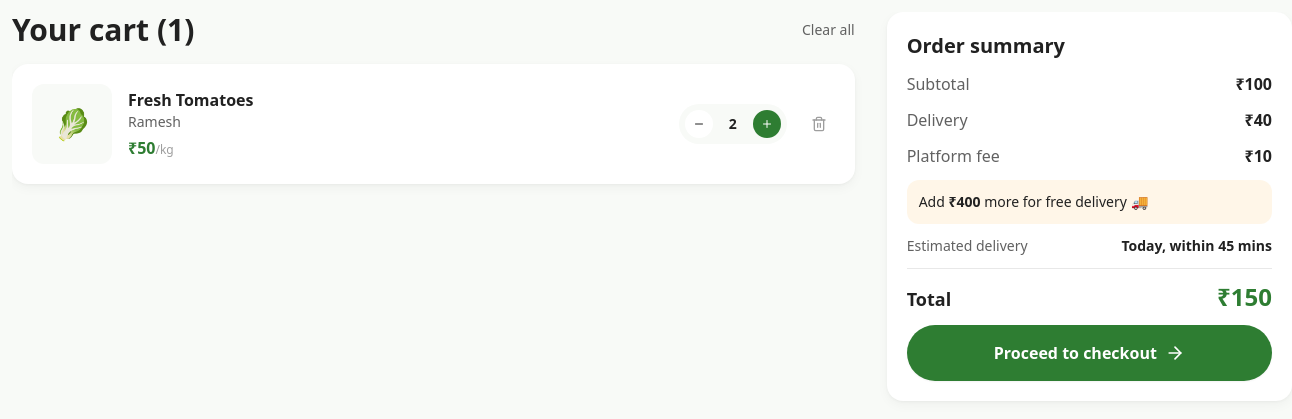
Test: CartPage — Remove & clear › removes item when trash icon clicked
Click the button with test id "remove-item" at (819, 124), box [803,108,835,140]
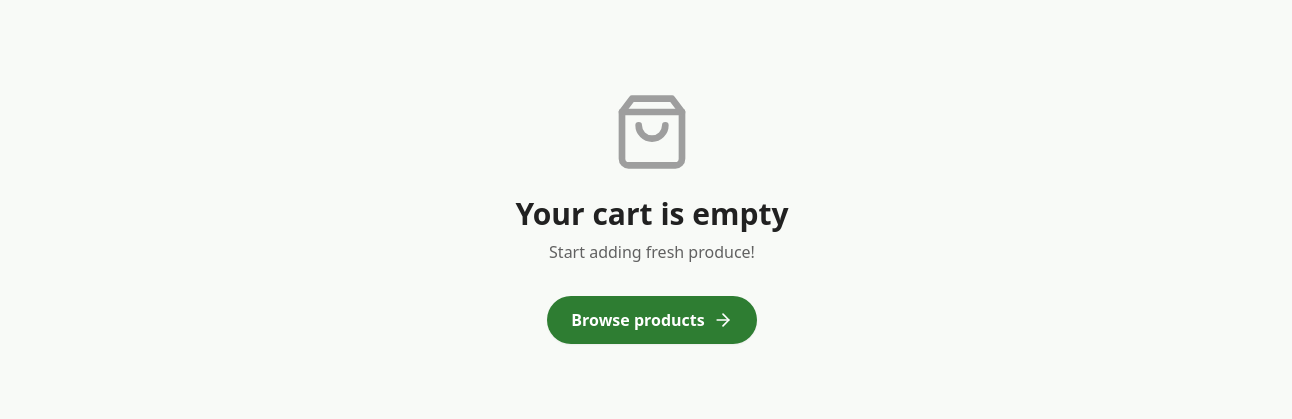
Expected: the element with test id "cart-item" is gone
